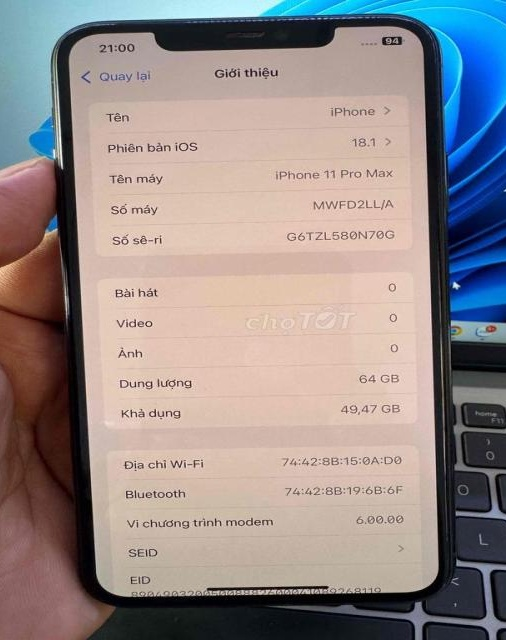scratch: (177, 14, 424, 26), (60, 19, 116, 32)
